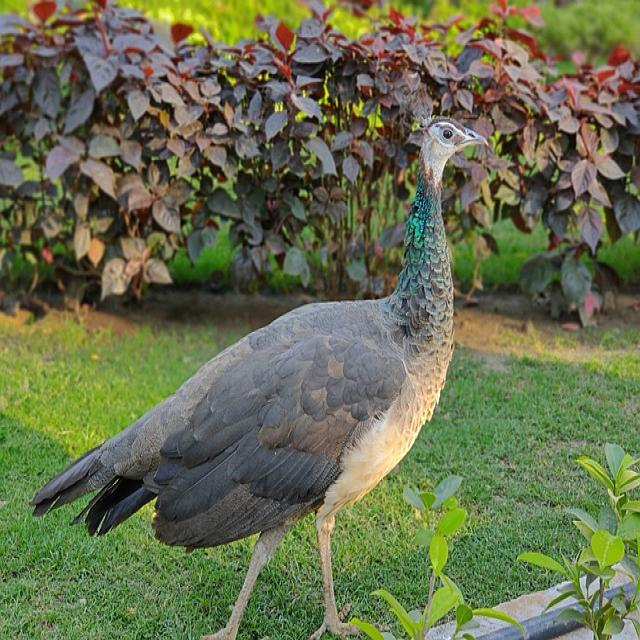peacock: (21, 84, 528, 635)
